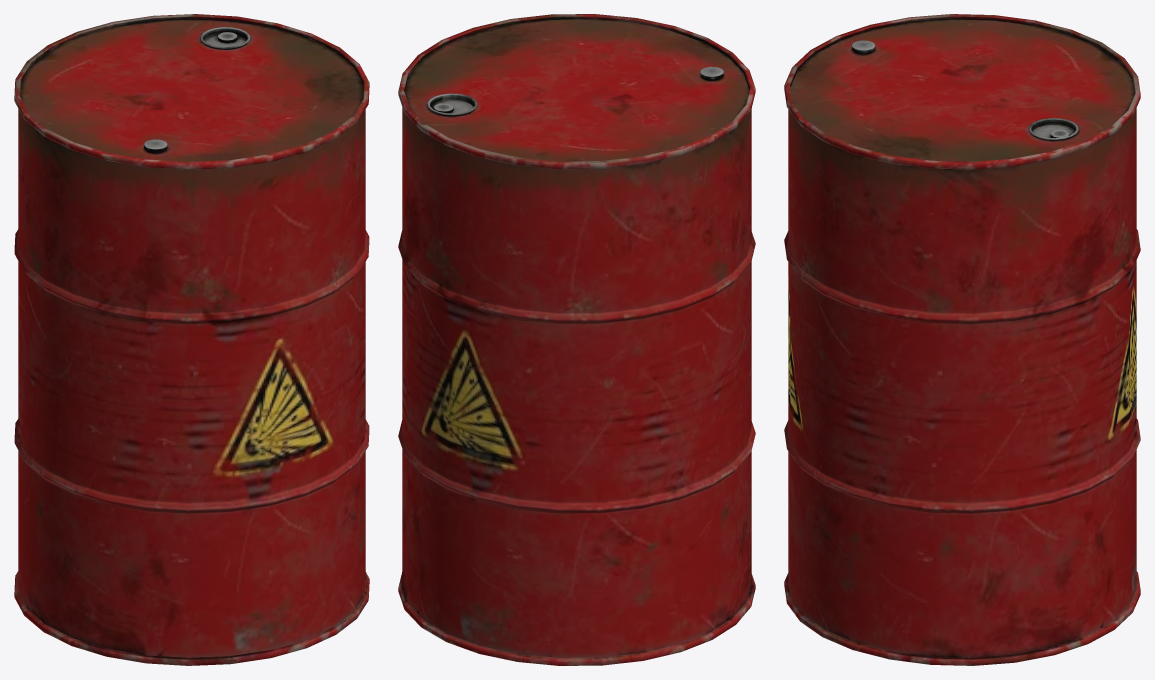
File: Barrel_01.glb
3 views of the same model, side by side, from view 1: azimuth 30°, elevation 25°; view 2: azimuth 150°, elevation 25°; view 3: azimuth 270°, elevation 25° (orthographic).
Parts seen in each view (by area): view 1: Barrel_01; view 2: Barrel_01; view 3: Barrel_01.
Boxes of the visible parts, bbox=[...] form: Barrel_01: bbox=[14, 14, 369, 665]; Barrel_01: bbox=[398, 14, 755, 665]; Barrel_01: bbox=[784, 14, 1140, 665].
Bounding box in the file's own units: 0.5631 × 0.88 × 0.5631.
Materials: 1 (1 with a texture image).
